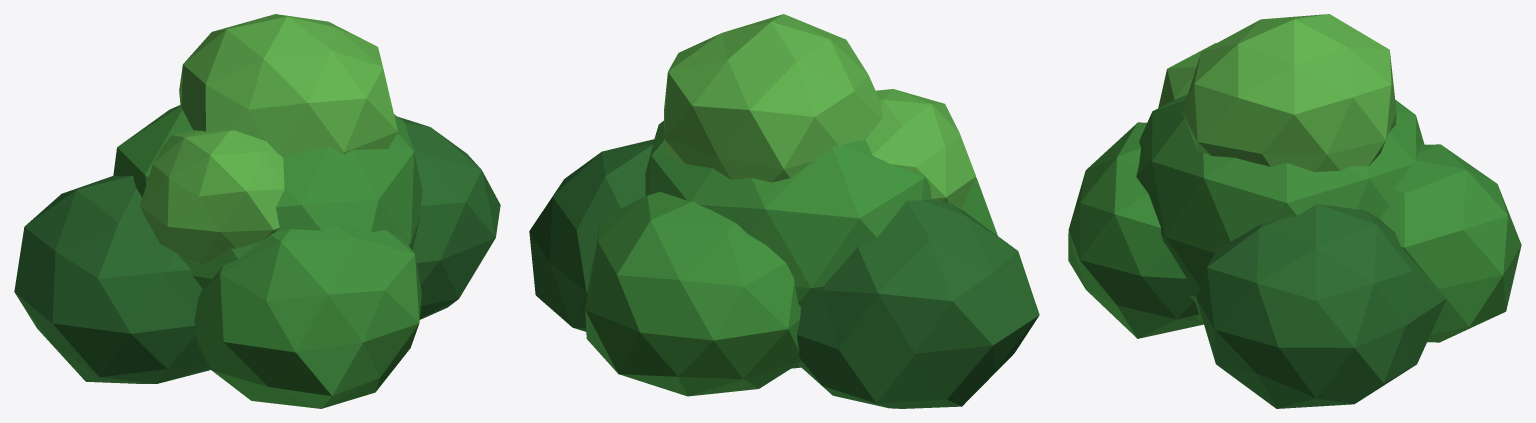
The model's file is Prop_Bush.fbx.
The picture shows the model from 3 angles, left to right: view 1: azimuth 30°, elevation 25°; view 2: azimuth 150°, elevation 25°; view 3: azimuth 270°, elevation 25°; orthographic projection. The views are drawn at different scales.
Parts seen in each view (by area): view 1: Prop_Bush; view 2: Prop_Bush; view 3: Prop_Bush.
Part boxes in pixels (<box>): Prop_Bush: <box>14,14,500,408</box>; Prop_Bush: <box>529,14,1039,408</box>; Prop_Bush: <box>1068,14,1521,408</box>.
Size of the model in its own units: 1.41 by 1.01 by 1.23.
